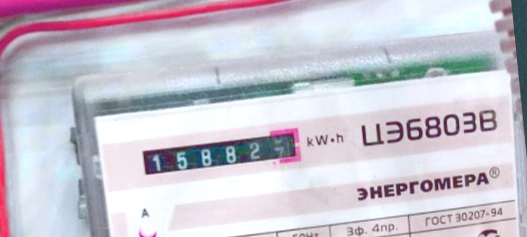1: (150, 149, 164, 169)
2: (248, 137, 262, 157)
5: (175, 147, 189, 168)
7: (274, 142, 286, 157)
8: (200, 143, 214, 165), (225, 141, 239, 163)
screen: (133, 119, 312, 182)
